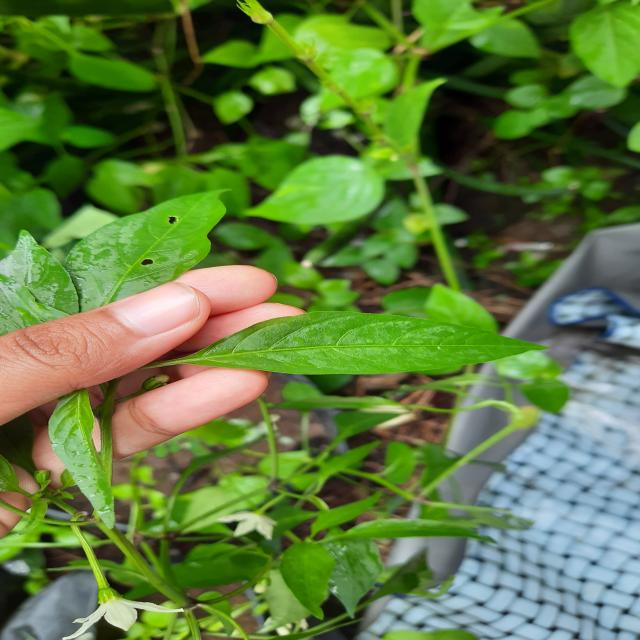sehat: (179, 296, 558, 397)
